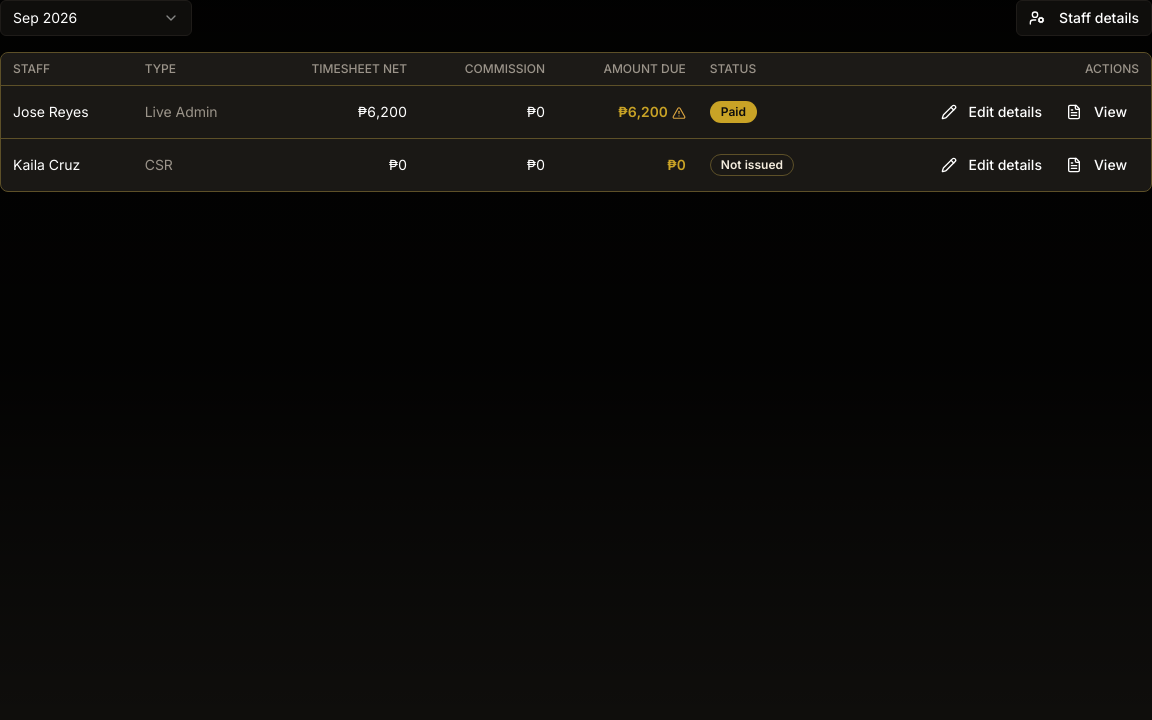
Test: Payslips tab › Finalize is blocked until address and date of birth exist
The width and height of the screenshot is (1152, 720).
Click the button "View" in the row of "Kaila Cruz" at (1096, 165), box [1054,147,1139,183]
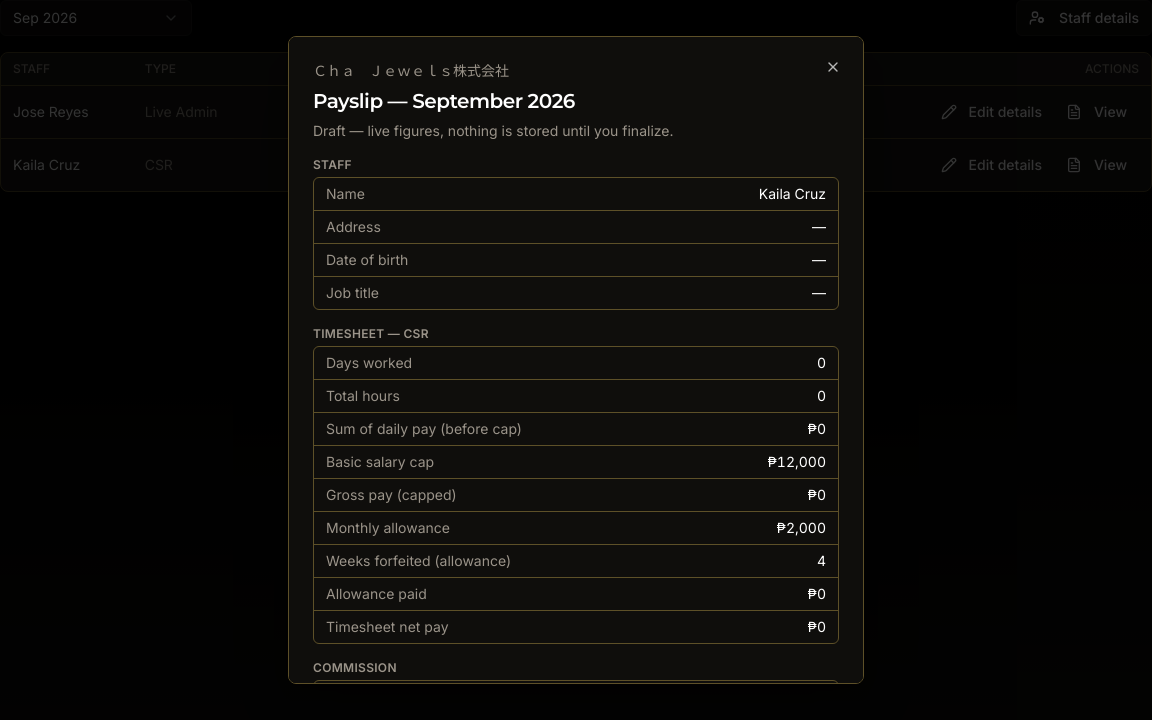
Now the element with test id "payslip-view" shows "Ｃｈａ Ｊｅｗｅｌｓ株式会社", box [313,62,509,79]
Now the heading "Payslip — September 2026" is shown, box [313,89,575,113]
